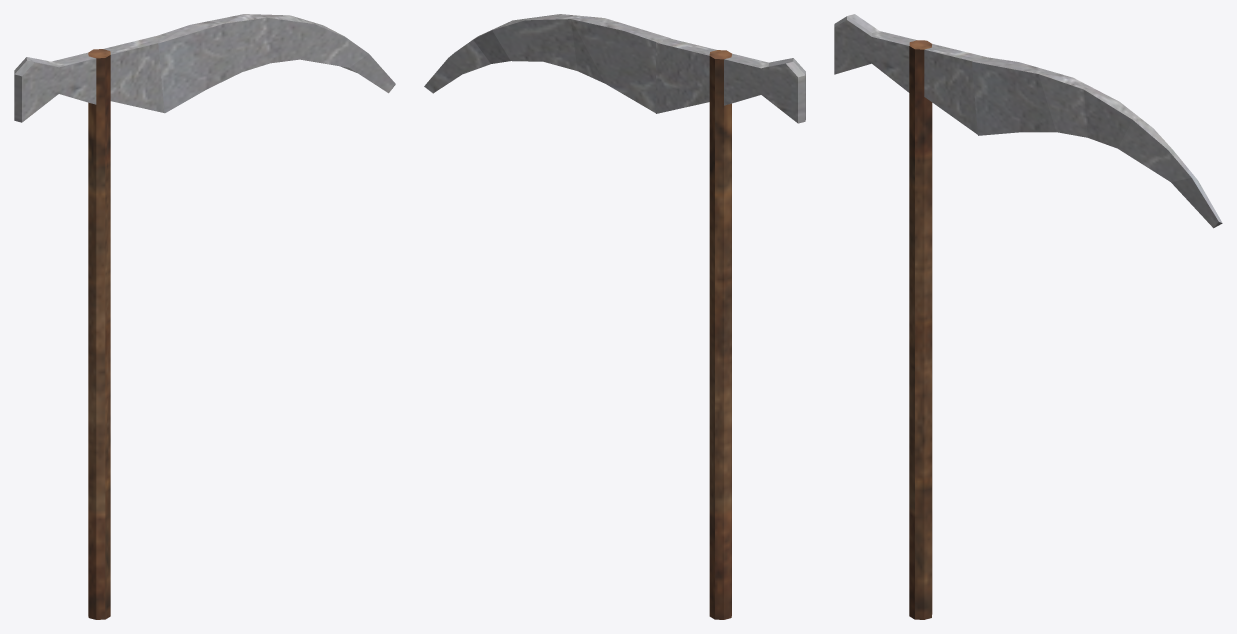
File: Scythe.fbx
3 renders of one model, left to right at view 1: azimuth 30°, elevation 25°; view 2: azimuth 150°, elevation 25°; view 3: azimuth 330°, elevation 25°, orthographic.
Visible parts, largest first — view 1: ScytheHandle, ScytheBlade; view 2: ScytheHandle, ScytheBlade; view 3: ScytheHandle, ScytheBlade.
Boxes of the visible parts, x1,y1,x2,y2 form: ScytheHandle: (14,36,164,619); ScytheBlade: (154,14,395,112); ScytheHandle: (656,38,805,619); ScytheBlade: (424,14,670,113); ScytheHandle: (834,14,985,619); ScytheBlade: (972,56,1222,228).
Size of the model in its own units: 328 by 470 by 17.56.
